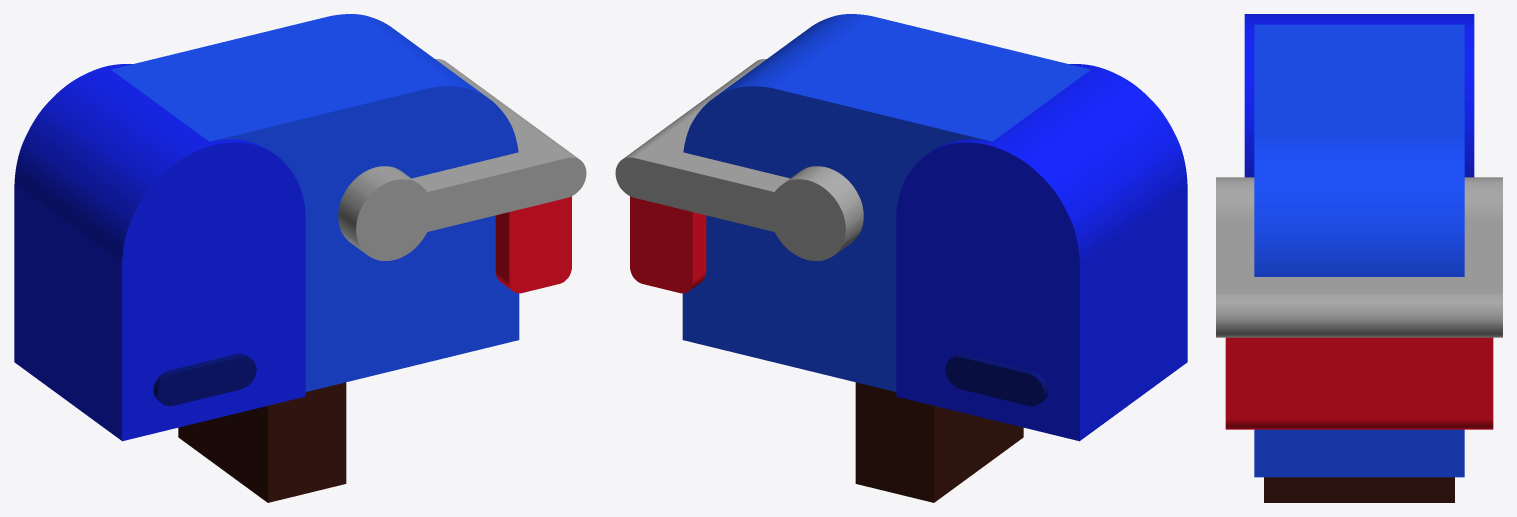
3 renders of one model, left to right at view 1: azimuth 30°, elevation 25°; view 2: azimuth 150°, elevation 25°; view 3: azimuth 270°, elevation 25°, orthographic. The views are drawn at different scales.
Visible parts, largest first — view 1: U+1F4EA_layer02_obj00, U+1F4EA_layer01_obj00, U+1F4EA_layer05_obj00, U+1F4EA_layer00_obj00, U+1F4EA_layer04_obj00, U+1F4EA_layer03_obj00; view 2: U+1F4EA_layer02_obj00, U+1F4EA_layer01_obj00, U+1F4EA_layer05_obj00, U+1F4EA_layer00_obj00, U+1F4EA_layer04_obj00, U+1F4EA_layer03_obj00; view 3: U+1F4EA_layer01_obj00, U+1F4EA_layer05_obj00, U+1F4EA_layer04_obj00, U+1F4EA_layer02_obj00, U+1F4EA_layer00_obj00.
Boxes of the visible parts, box(x1,y1,x2,y2) form: U+1F4EA_layer02_obj00: box(14, 64, 305, 441); U+1F4EA_layer01_obj00: box(111, 14, 519, 391); U+1F4EA_layer05_obj00: box(338, 59, 586, 260); U+1F4EA_layer00_obj00: box(178, 382, 346, 502); U+1F4EA_layer04_obj00: box(495, 196, 571, 293); U+1F4EA_layer03_obj00: box(153, 353, 256, 406); U+1F4EA_layer02_obj00: box(896, 64, 1187, 441); U+1F4EA_layer01_obj00: box(682, 14, 1090, 391); U+1F4EA_layer05_obj00: box(615, 59, 863, 260); U+1F4EA_layer00_obj00: box(855, 382, 1023, 502); U+1F4EA_layer04_obj00: box(630, 196, 706, 293); U+1F4EA_layer03_obj00: box(945, 353, 1048, 406); U+1F4EA_layer01_obj00: box(1254, 24, 1464, 477); U+1F4EA_layer05_obj00: box(1216, 177, 1502, 337); U+1F4EA_layer04_obj00: box(1225, 337, 1493, 429); U+1F4EA_layer02_obj00: box(1244, 14, 1474, 177); U+1F4EA_layer00_obj00: box(1264, 477, 1454, 502).
Size of the model in its own units: 0.5805 by 0.4673 by 0.3.
